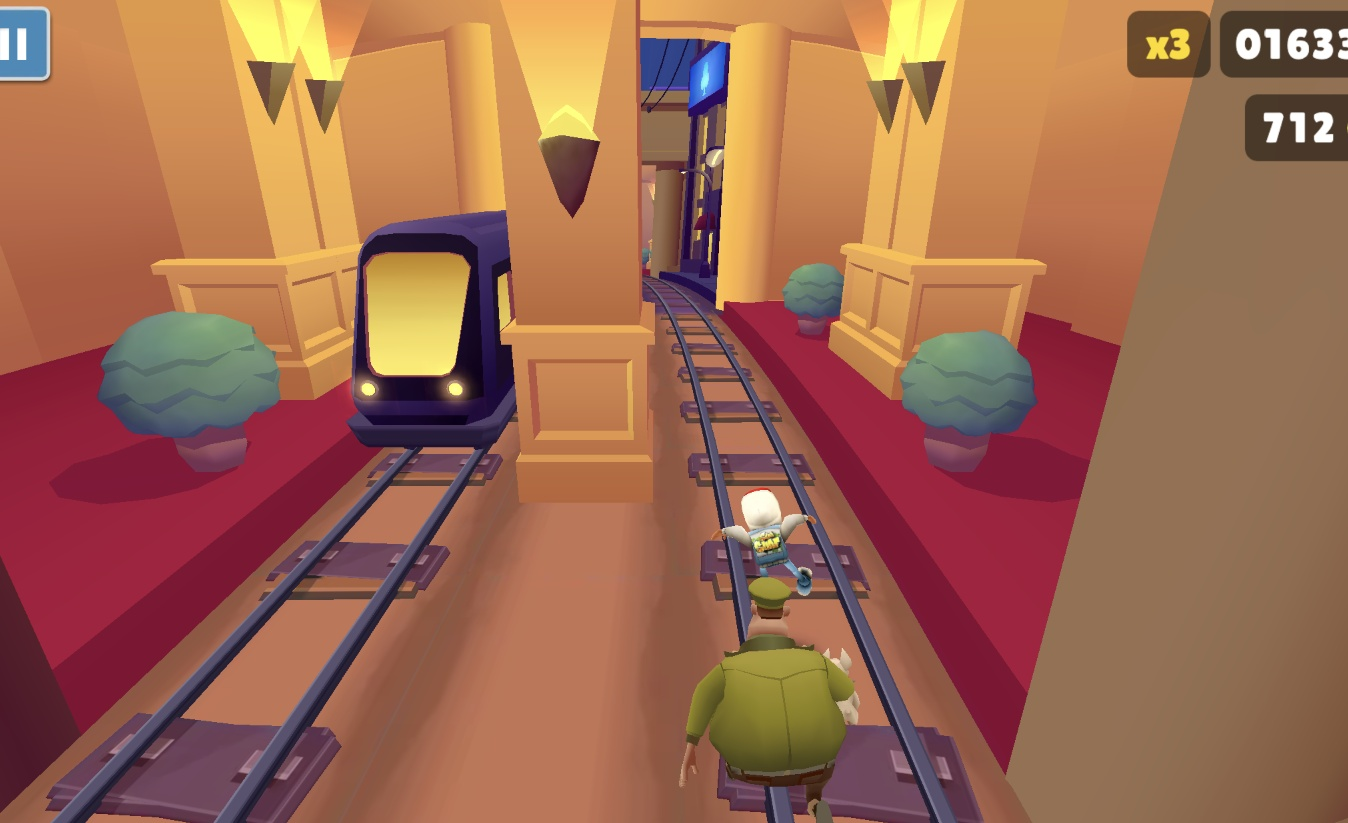pillar: (600, 0, 748, 526)
train: (354, 213, 529, 446)
